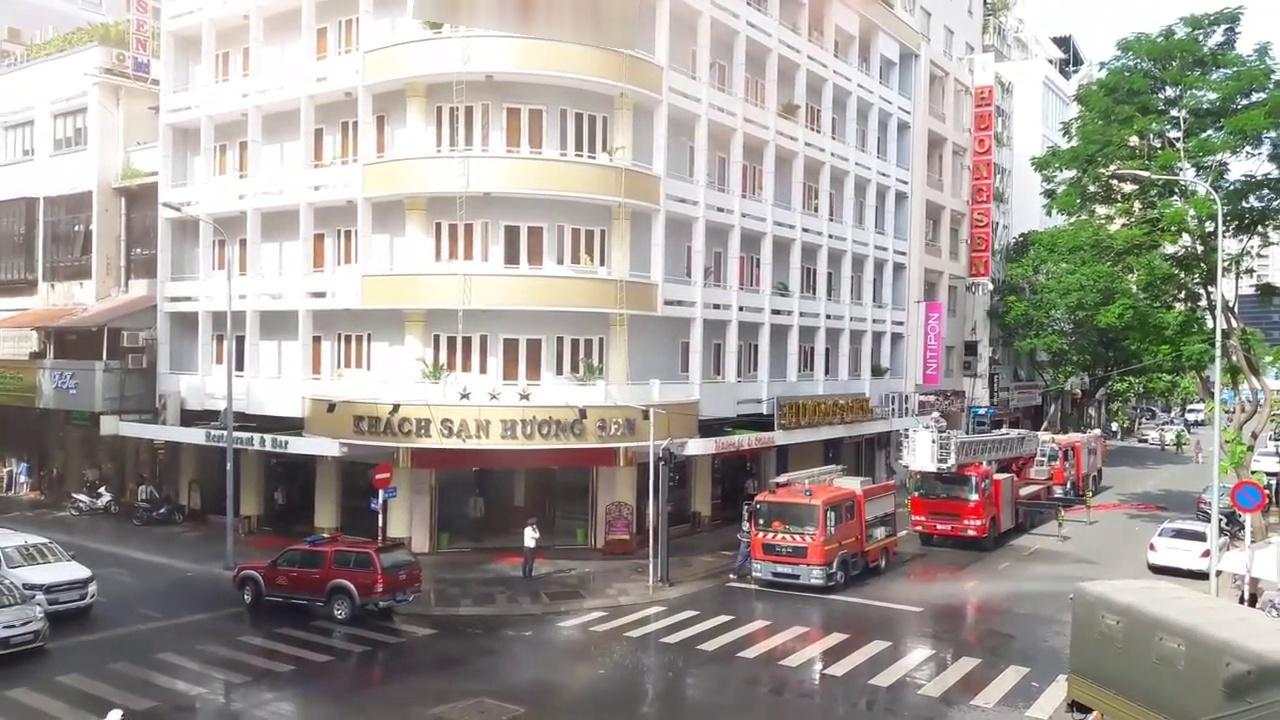xe cuu hoa: (899, 427, 1052, 549), (748, 464, 896, 588)
xe hoi: (230, 531, 421, 622), (0, 533, 94, 612), (0, 575, 48, 652), (1145, 520, 1208, 570)
